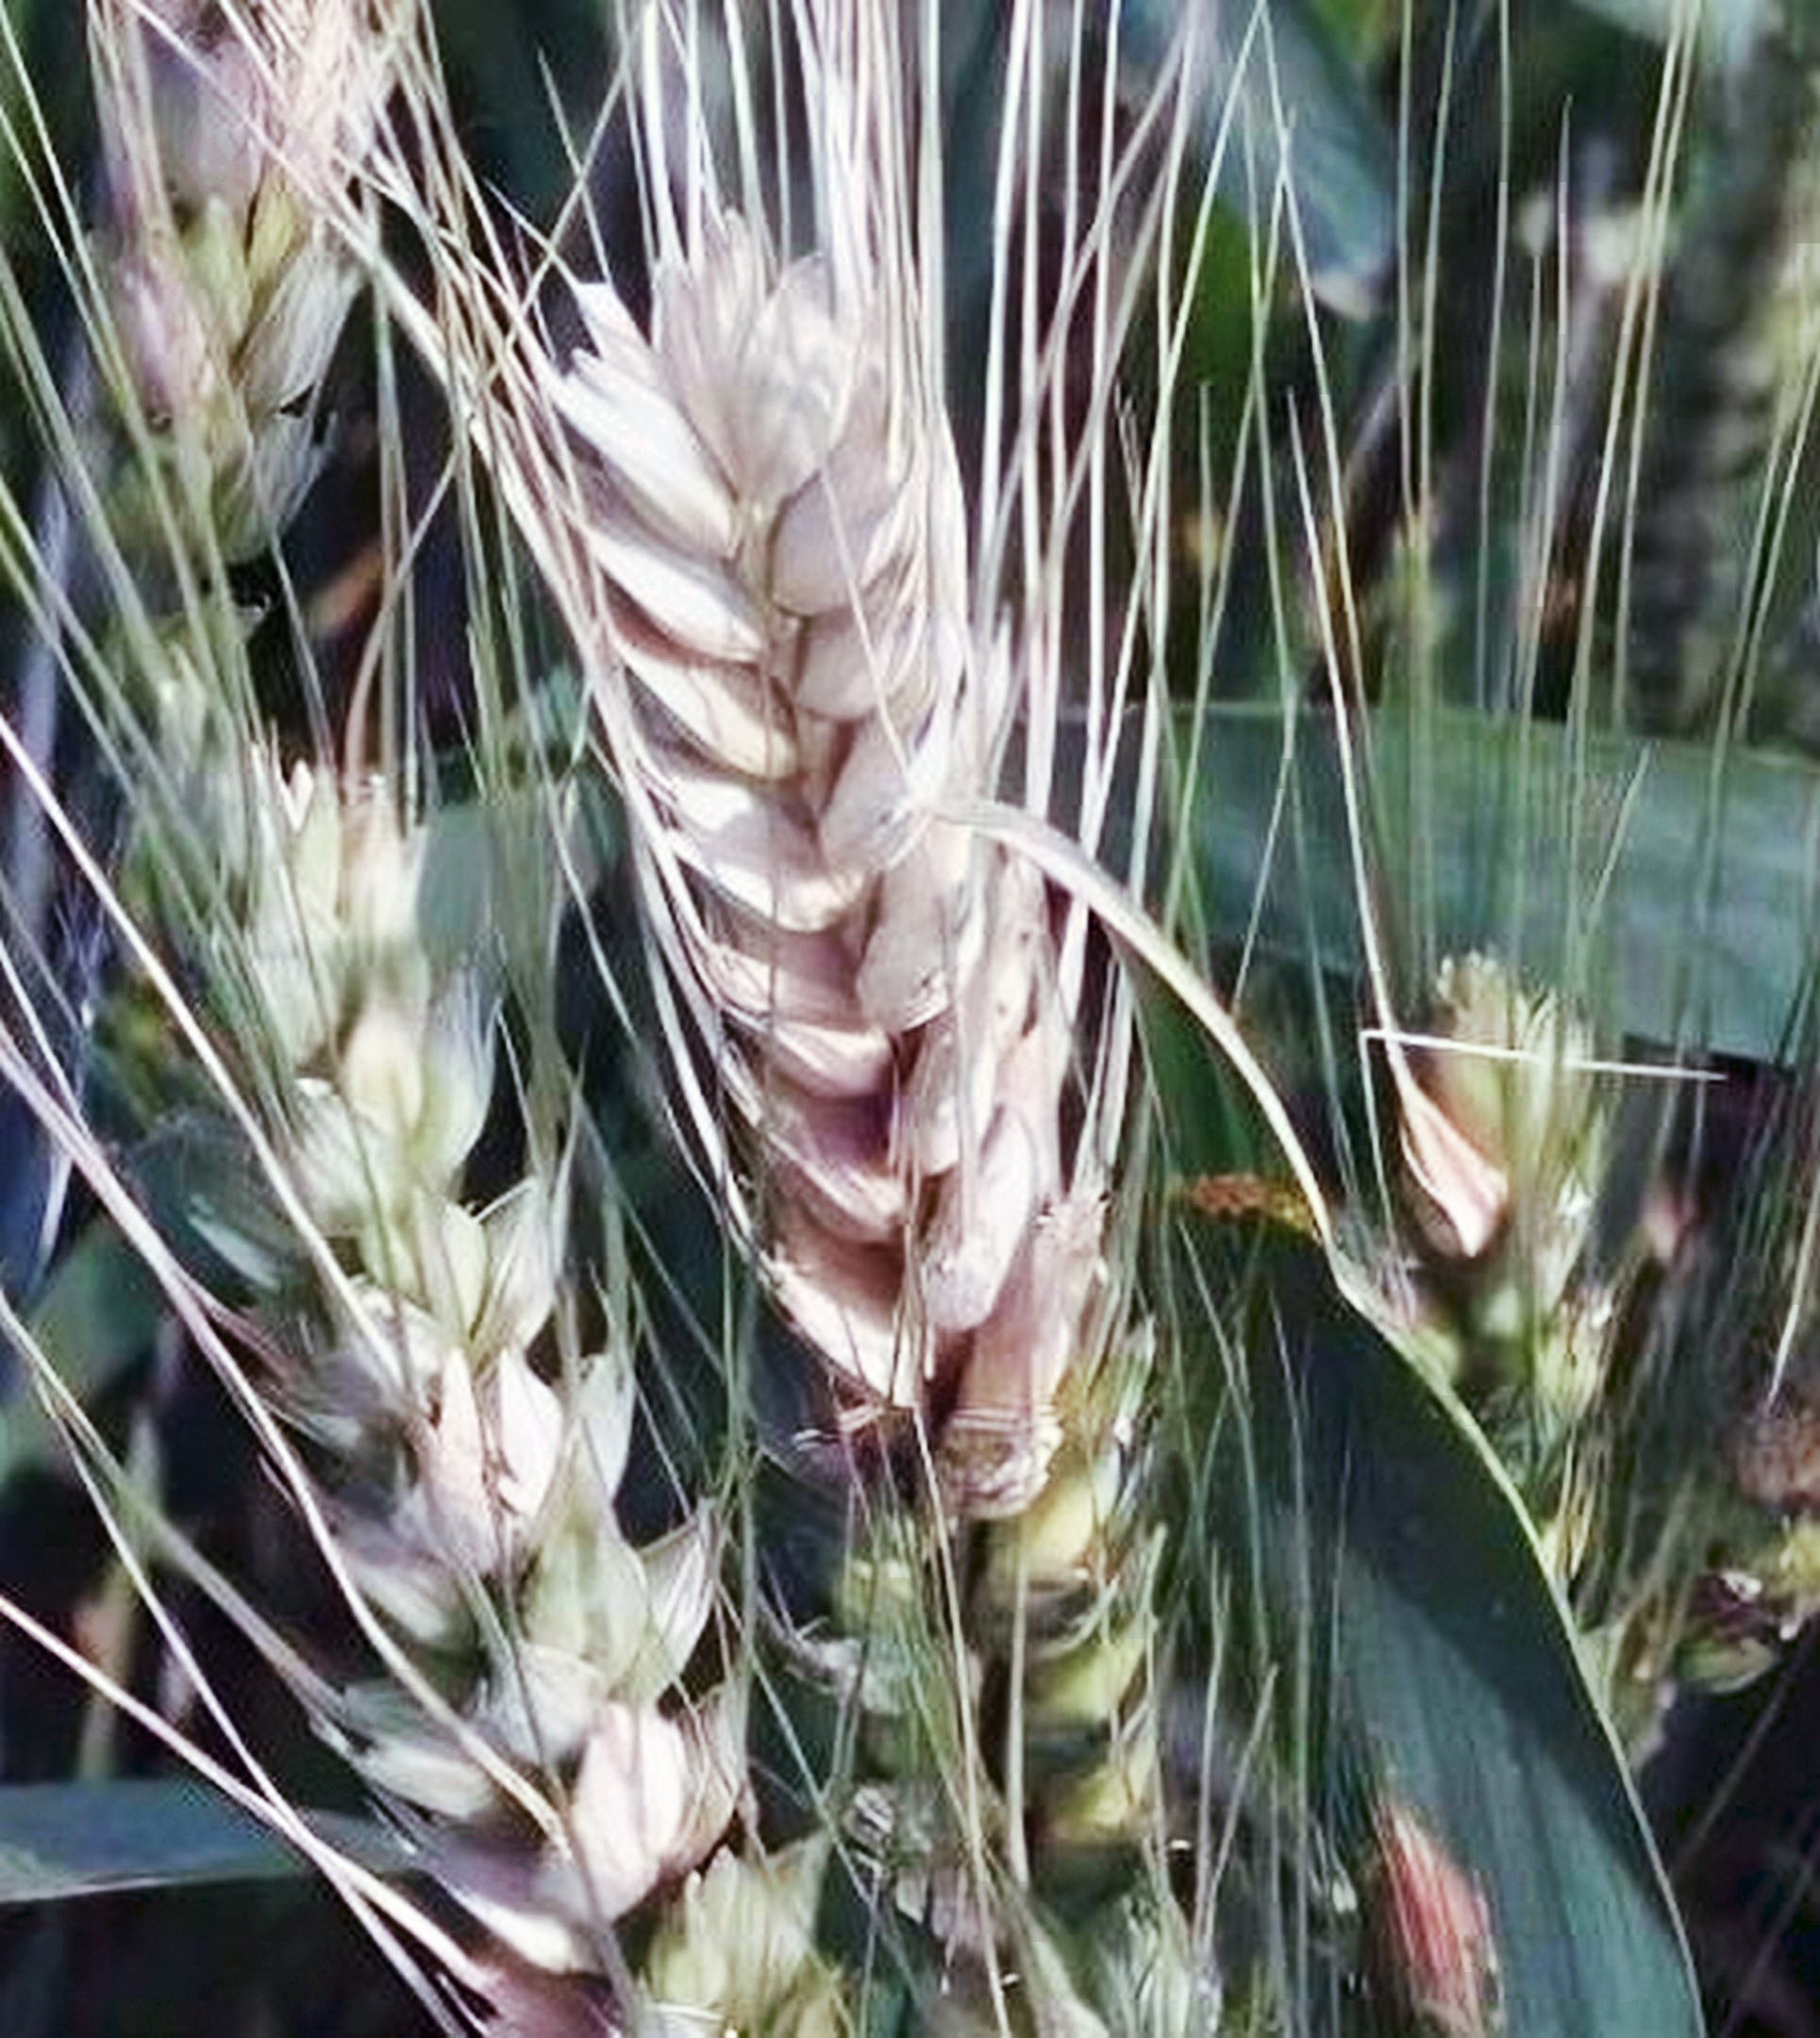Wheat scab: (492, 146, 1202, 1862)
